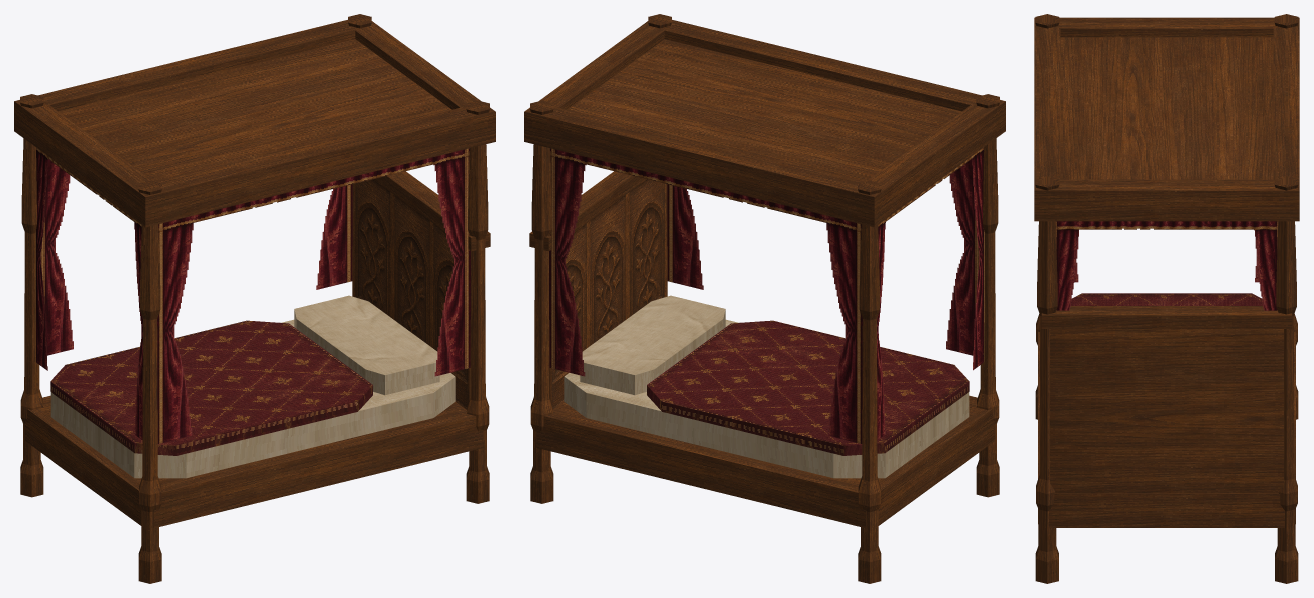
The model's file is level_castle_four_poster_bed.glb.
The picture shows the model from 3 angles, left to right: view 1: azimuth 30°, elevation 25°; view 2: azimuth 150°, elevation 25°; view 3: azimuth 270°, elevation 25°; orthographic projection.
Parts seen in each view (by area): view 1: Continuous shaped oak post; view 2: Continuous shaped oak post; view 3: Continuous shaped oak post.
Boxes of the visible parts, bbox=[...] form: Continuous shaped oak post: bbox=[14, 14, 495, 583]; Continuous shaped oak post: bbox=[524, 14, 1005, 583]; Continuous shaped oak post: bbox=[1034, 14, 1299, 583].
Bounding box in the file's own units: 2.2 × 2.34 × 1.42.
2 materials, 2 textured.
